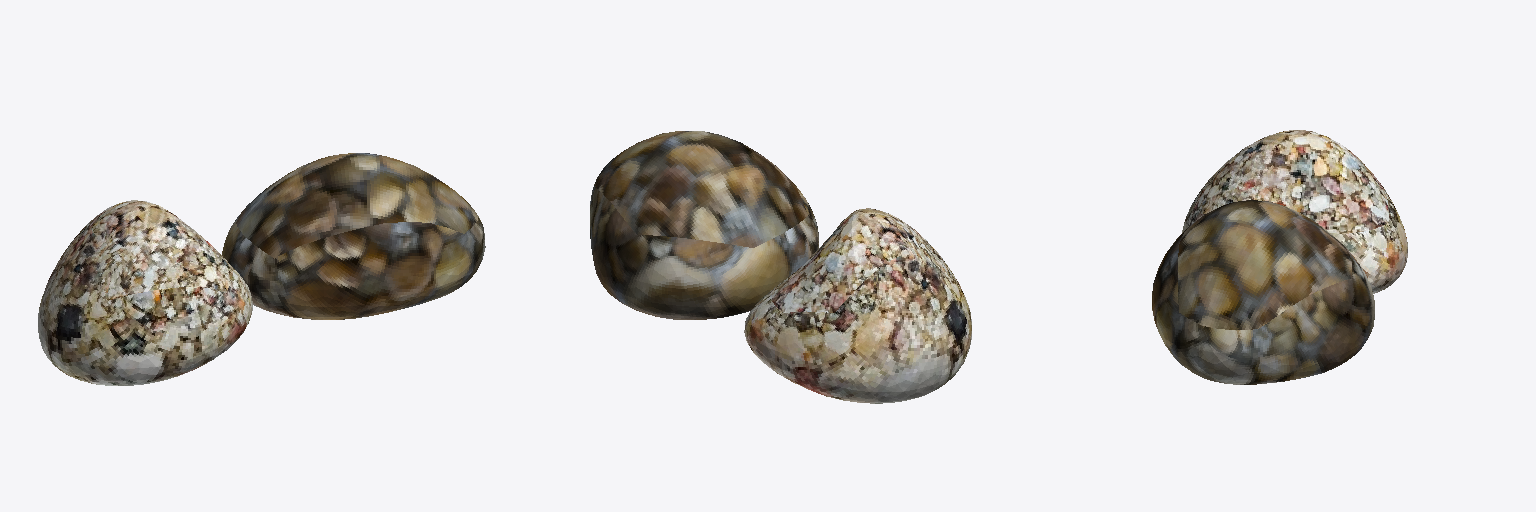
3 views of the same model, side by side, from view 1: azimuth 30°, elevation 25°; view 2: azimuth 150°, elevation 25°; view 3: azimuth 270°, elevation 25° (orthographic).
Visible parts, largest first — view 1: Icosphere.001; view 2: Icosphere.001; view 3: Icosphere.001.
Part boxes in pixels (left/top/right/bottom): Icosphere.001: left=38, top=153, right=485, bottom=385; Icosphere.001: left=590, top=131, right=971, bottom=403; Icosphere.001: left=1152, top=130, right=1407, bottom=384.
Bounding box in the file's own units: 0.9839 × 0.4173 × 0.5568.
Materials: 2 (2 with a texture image).